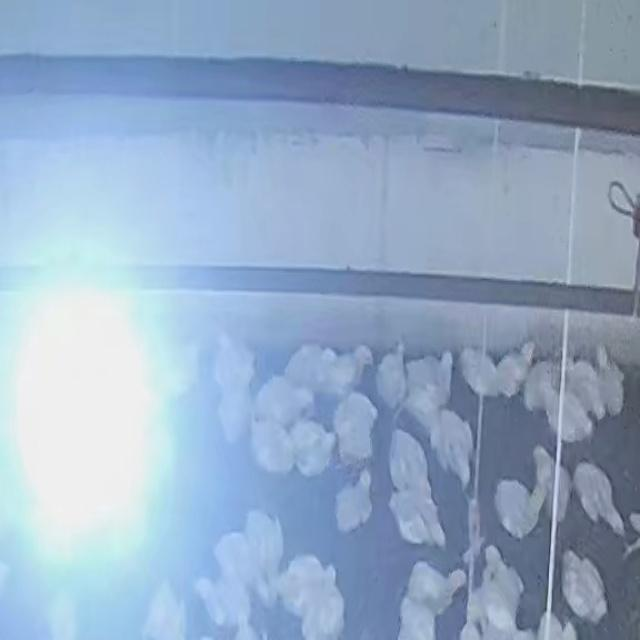chicken: (568, 455, 626, 534), (214, 535, 272, 600), (561, 549, 609, 623), (528, 441, 571, 517), (482, 543, 524, 619), (388, 423, 432, 495), (432, 412, 477, 482), (276, 557, 337, 607), (387, 494, 445, 545), (330, 394, 376, 454), (192, 578, 254, 622), (412, 558, 463, 610), (492, 482, 543, 534), (208, 332, 256, 386), (248, 510, 283, 580), (594, 344, 628, 415), (290, 420, 338, 470), (334, 468, 371, 532), (569, 355, 605, 414), (262, 381, 316, 420), (410, 340, 452, 386), (458, 348, 496, 398), (254, 424, 291, 474), (552, 395, 592, 441), (500, 341, 532, 398), (222, 388, 254, 441), (380, 344, 408, 400)
